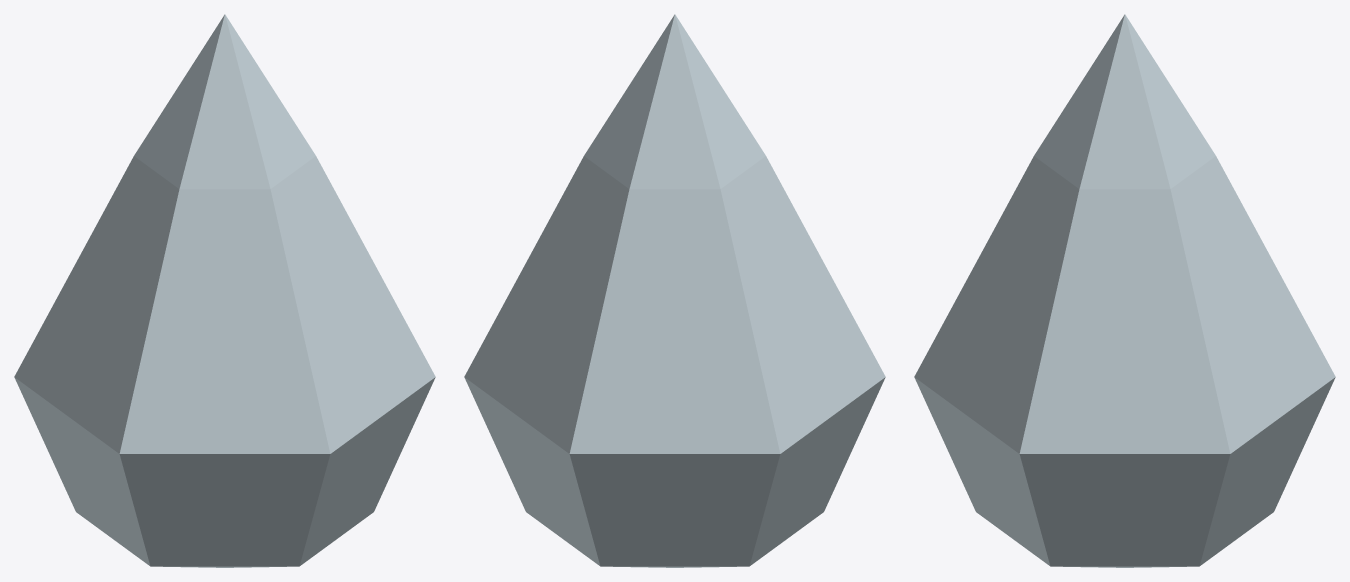
File: fx_drop.glb
3 views of the same model, side by side, from view 1: azimuth 30°, elevation 25°; view 2: azimuth 150°, elevation 25°; view 3: azimuth 270°, elevation 25° (orthographic).
Visible parts, largest first — view 1: Drop; view 2: Drop; view 3: Drop.
Boxes of the visible parts, x1=… form: Drop: x1=14, y1=14, x2=435, y2=567; Drop: x1=464, y1=14, x2=885, y2=567; Drop: x1=914, y1=14, x2=1335, y2=567.
Size of the model in its own units: 0.3464 by 0.58 by 0.4.
